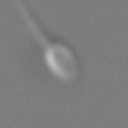normal: (11, 1, 51, 46)
